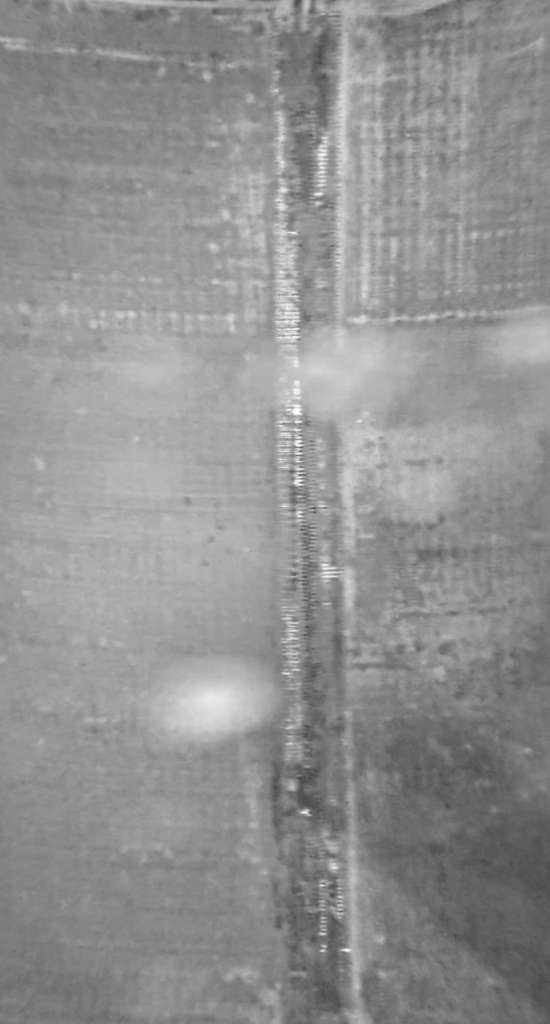splice: (266, 1, 363, 1024)
